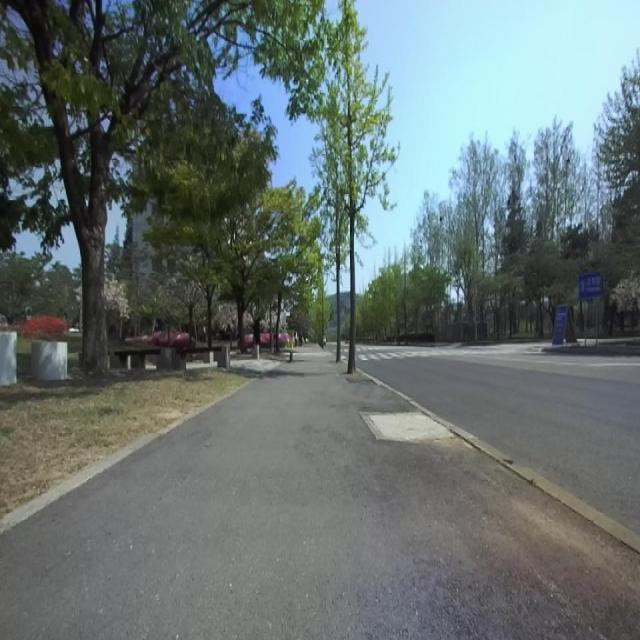sidewalk: (0, 348, 640, 639)
